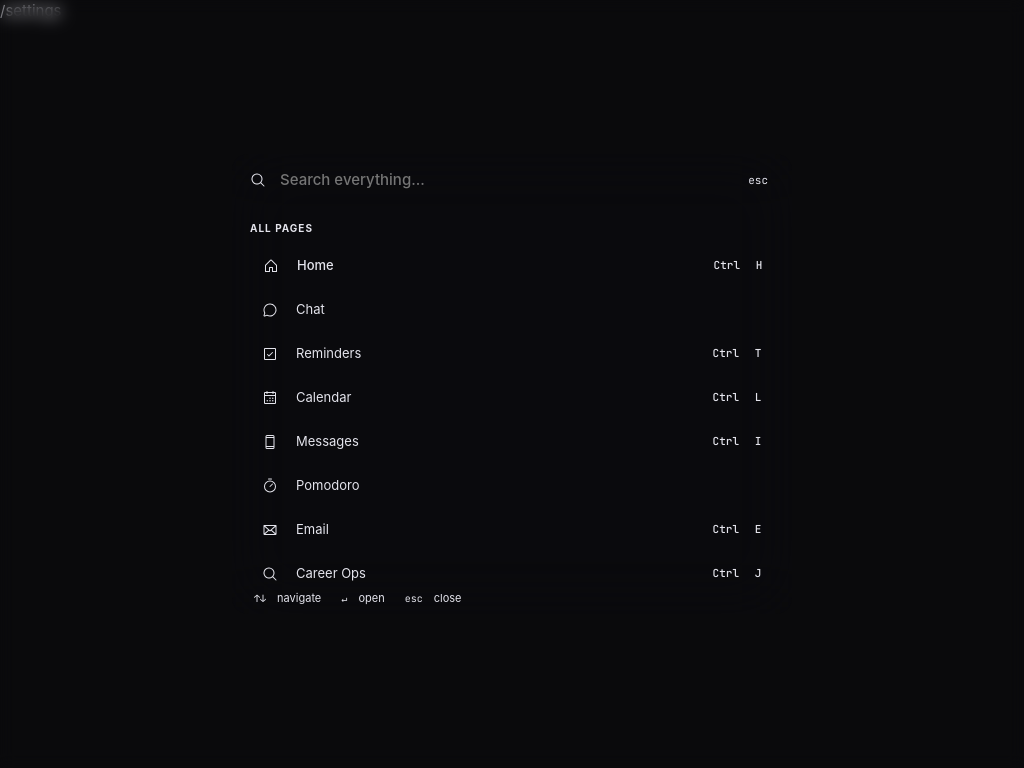
Scenario: CommandPalette › filters recent chats by project branch metadata
Type "feature/chat" into the dropdown named "Command palette search" at (504, 180), box left=278, top=168, right=730, bottom=192
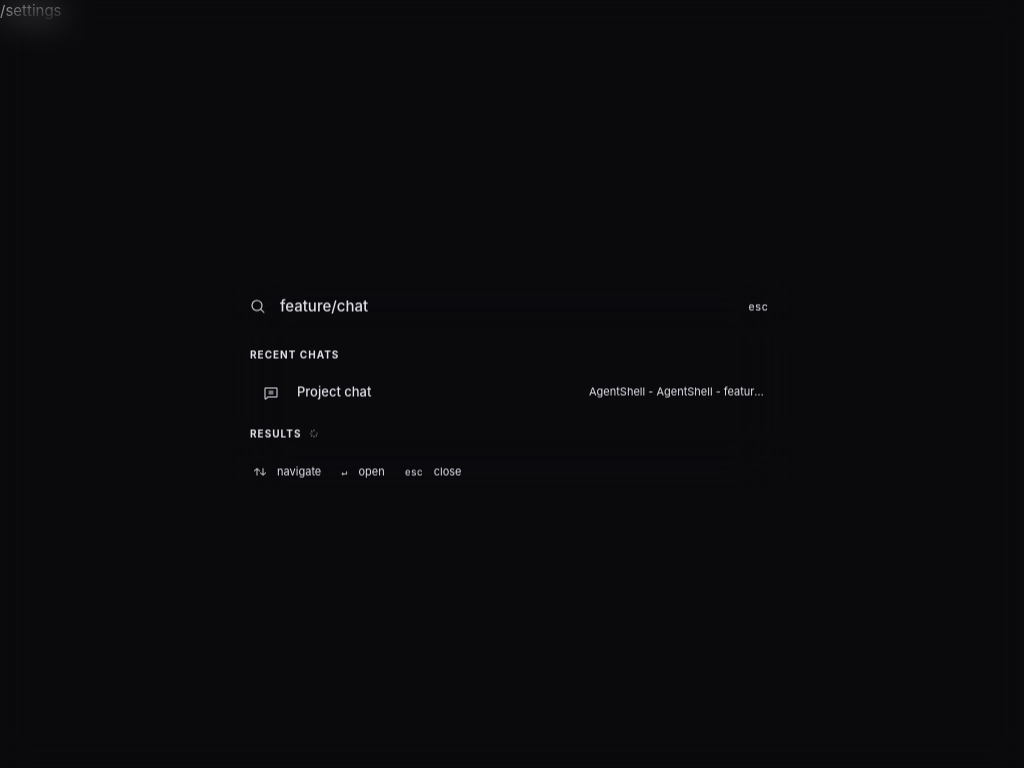
Check: the option "Project chat" shows "feature/chat", box left=263, top=383, right=792, bottom=400
Check: the option "Project chat" shows "Remote harness", box left=263, top=383, right=792, bottom=400
